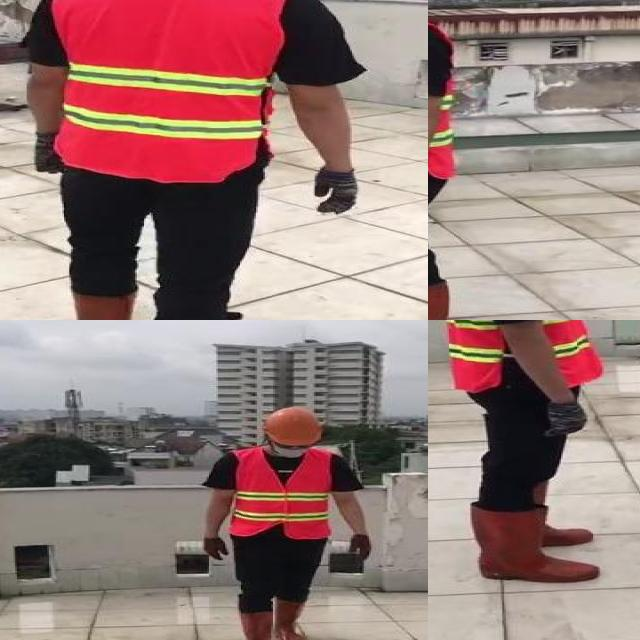boots: (469, 501, 600, 585), (497, 474, 600, 546), (37, 283, 133, 320), (276, 599, 310, 640), (235, 610, 274, 640)
hand_glove: (313, 167, 357, 216), (536, 401, 588, 437), (202, 536, 230, 560), (350, 534, 374, 562)
head_helmet: (262, 406, 324, 448)
person: (0, 0, 391, 320), (428, 320, 621, 589), (194, 404, 377, 640)
vest: (55, 0, 279, 183), (438, 320, 603, 392), (226, 451, 332, 536), (428, 18, 463, 179)
